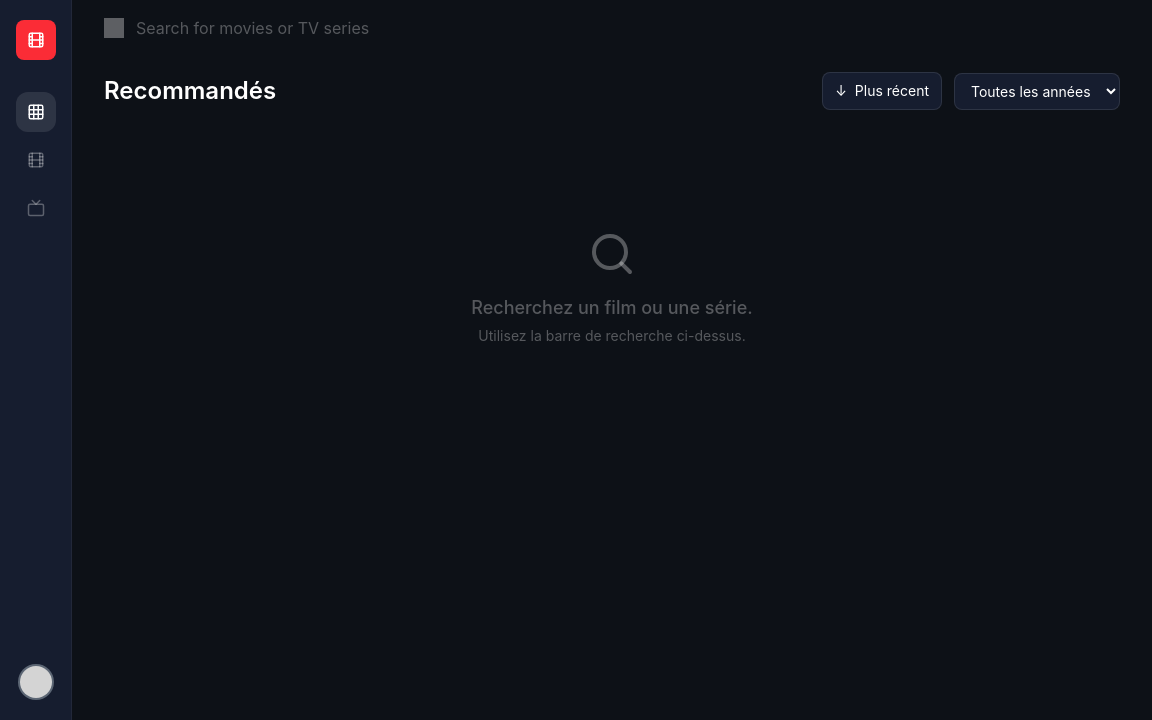
Scenario: Recherche depuis l'accueil › affiche l'état vide quand la recherche ne donne rien
The image size is (1152, 720).
Step 1. Type "xyzqwerty" into the search field → (628, 28), box [136,16,1120,40]
Wait 500 ms
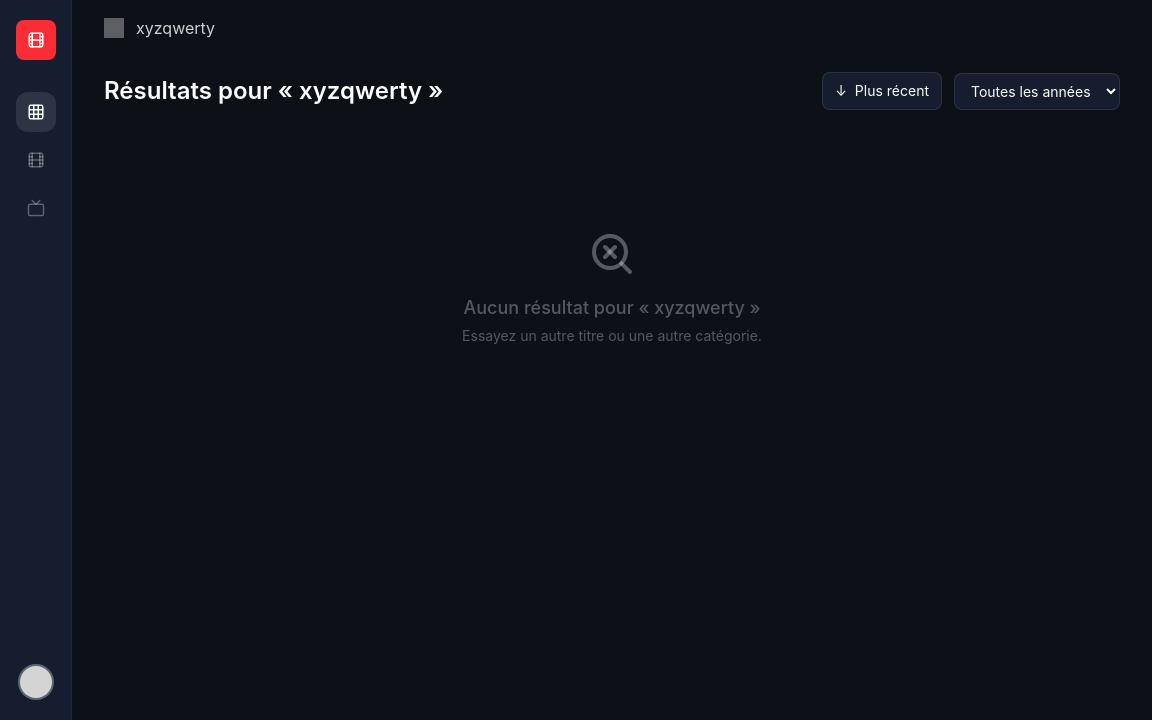
Check: the element with test id "empty-state" shows "xyzqwerty", box [654,297,745,318]
